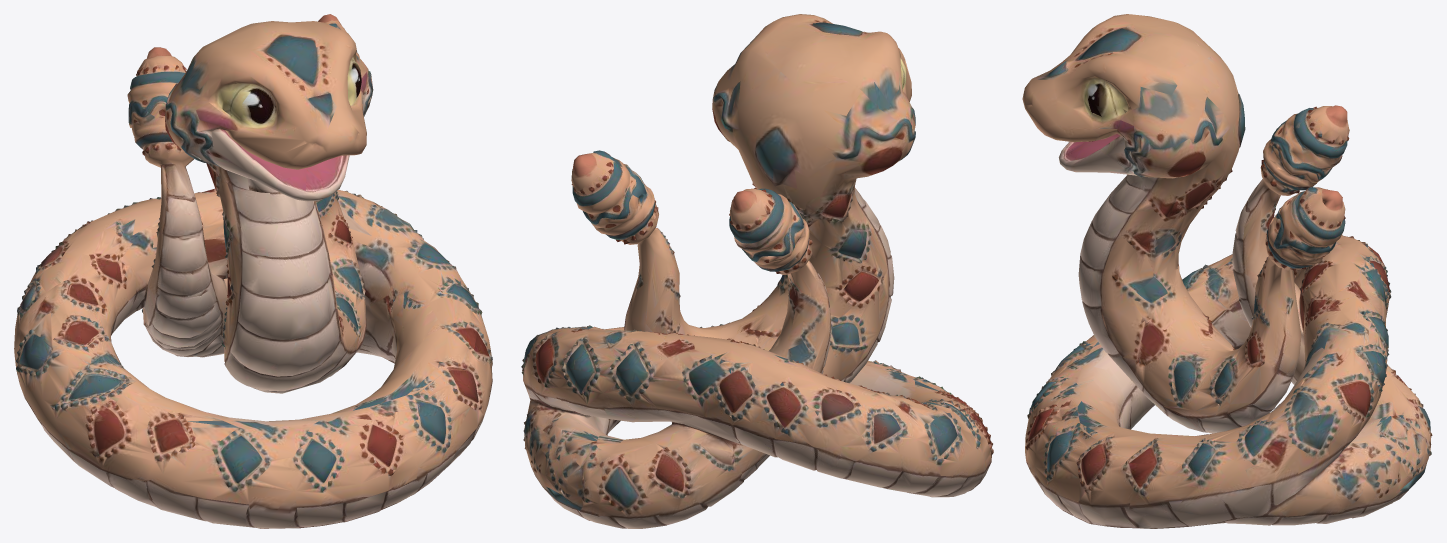
3 views of the same model, side by side, from view 1: azimuth 30°, elevation 25°; view 2: azimuth 150°, elevation 25°; view 3: azimuth 270°, elevation 25° (orthographic). The views are drawn at different scales.
Parts seen in each view (by area): view 1: Mesh_0; view 2: Mesh_0; view 3: Mesh_0.
Boxes of the visible parts, box(x1,y1,x2,y2) form: Mesh_0: box(14, 14, 492, 528); Mesh_0: box(521, 14, 993, 528); Mesh_0: box(1022, 14, 1432, 528).
Bounding box in the file's own units: 1.88 × 1.9 × 1.61.
Materials: 1 (1 with a texture image).
